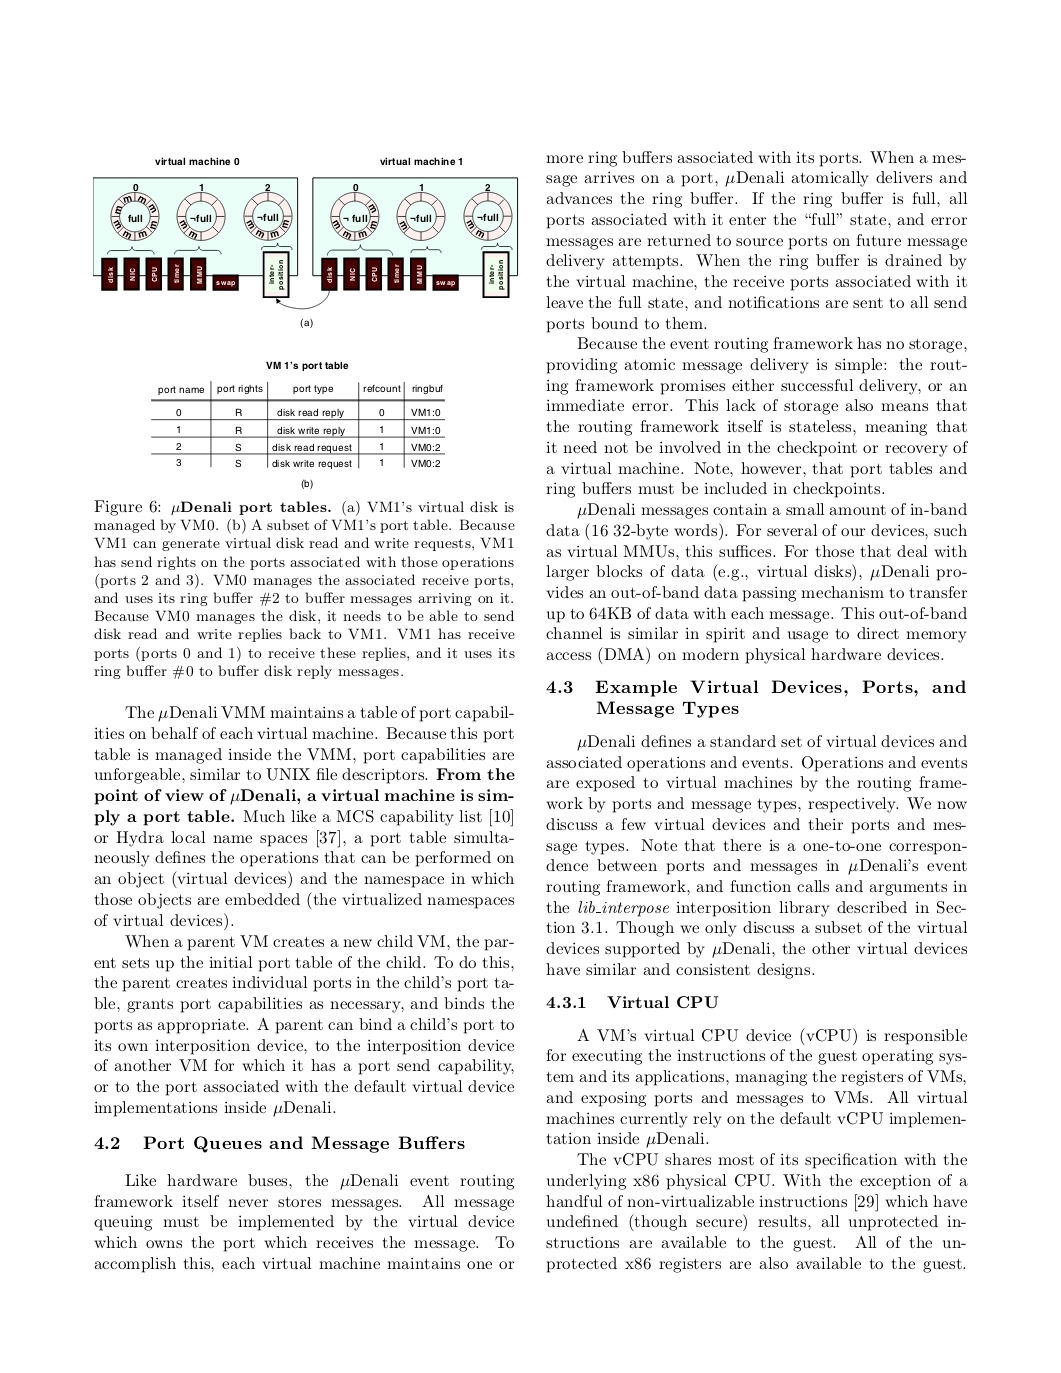Table: (150, 380, 444, 469)
figure: (93, 175, 518, 310)
